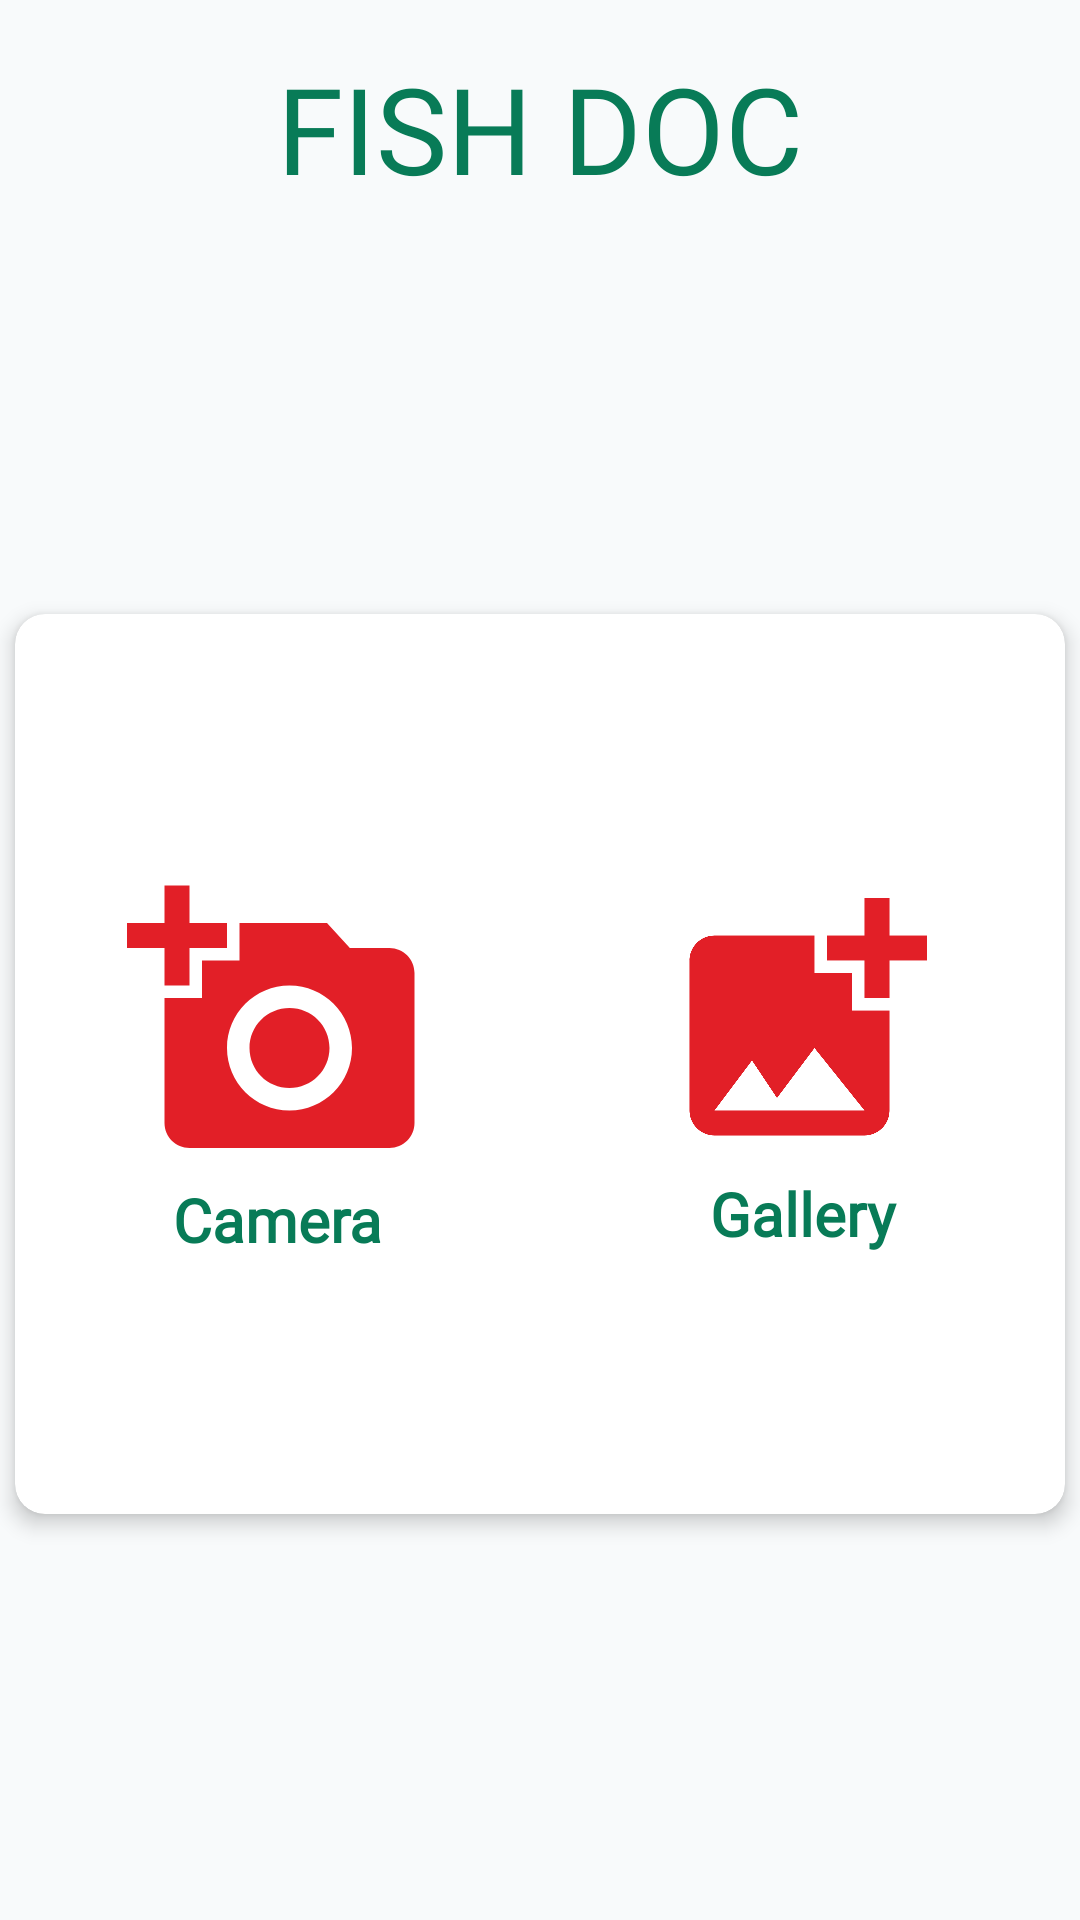

Point at icon controls on the screen. Image size 1080px x 1920px, points as point (x, y).
photo: point (808, 1017)
